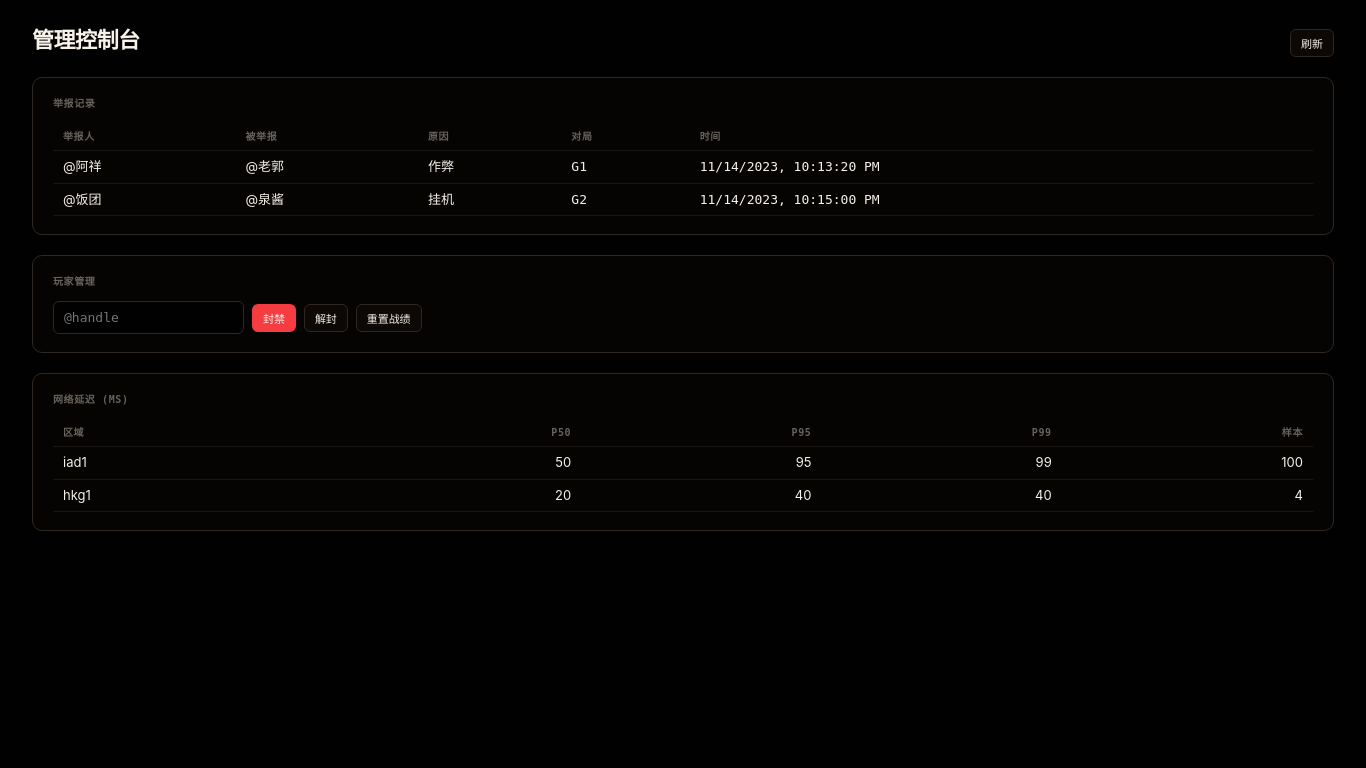
AdminDashboard — moderation actions › resets stats for the entered handle
Check: the text "@老郭" is shown, box 236,150 -> 418,183
In the field named "玩家 handle": (148, 318) 53,301 -> 244,334, type "@grinder"
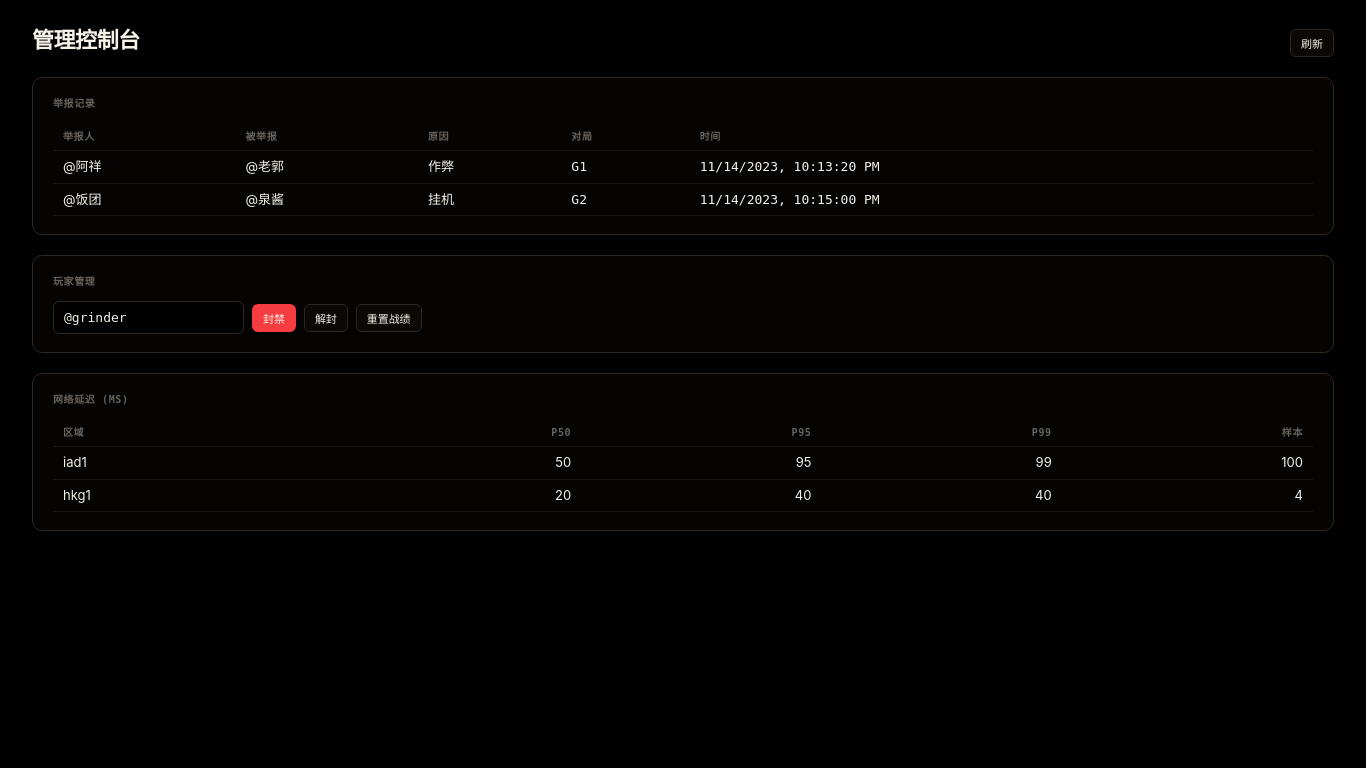
Click the button "重置战绩": (389, 318) 356,304 -> 422,332
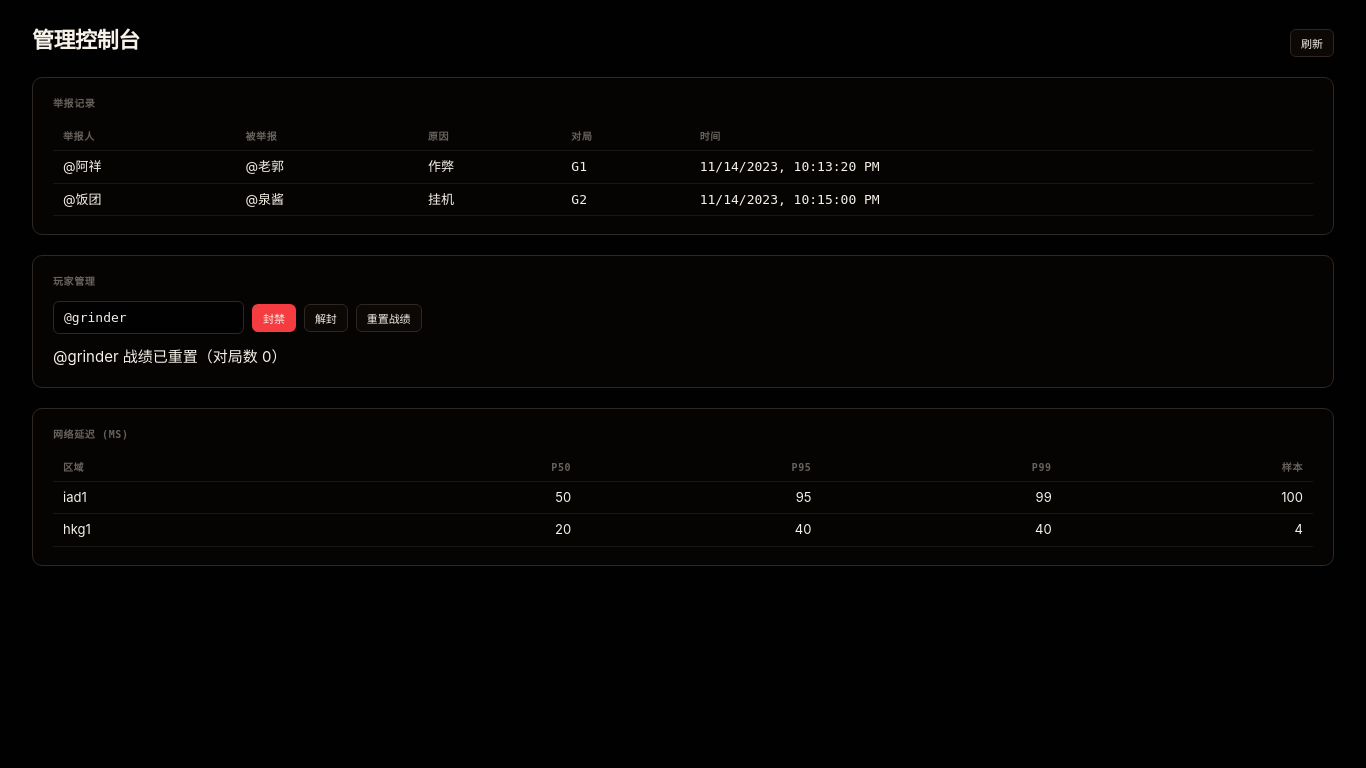
Check: the text "@grinder 战绩已重置（对局数 0）" is shown, box 53,347 -> 286,366
